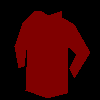abbigliamento_uomo: (14, 10, 90, 98)
